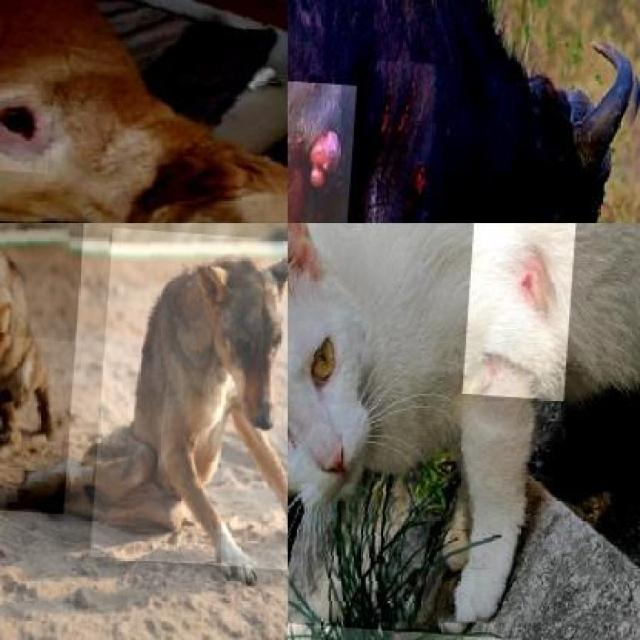buffalo: (287, 0, 640, 223)
cat: (287, 223, 640, 640)
dog: (89, 228, 288, 570), (0, 0, 288, 223), (0, 223, 88, 515)
injured: (462, 223, 576, 402), (11, 439, 168, 563), (345, 59, 437, 223), (0, 333, 75, 472), (288, 80, 355, 223), (0, 80, 54, 174)
